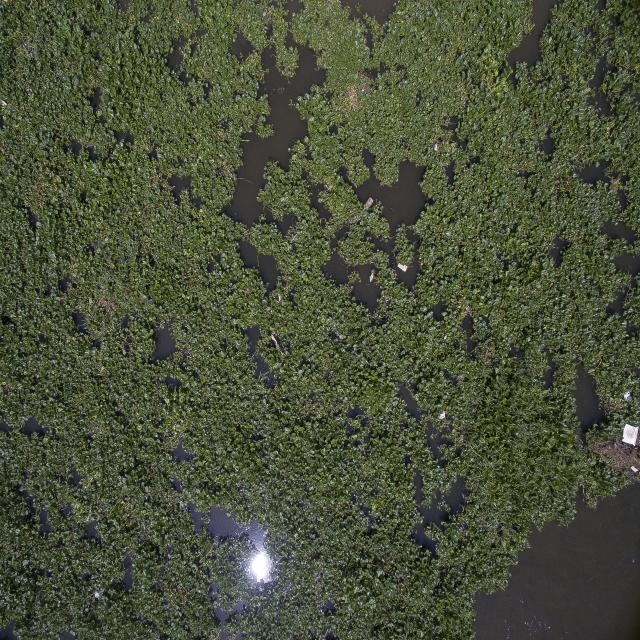debris: (620, 422, 640, 446), (271, 328, 287, 358), (394, 258, 412, 276), (630, 461, 638, 480), (363, 197, 373, 210), (368, 268, 376, 283), (92, 591, 103, 601), (431, 142, 441, 153), (624, 389, 632, 402), (0, 95, 8, 108), (438, 410, 446, 421)
